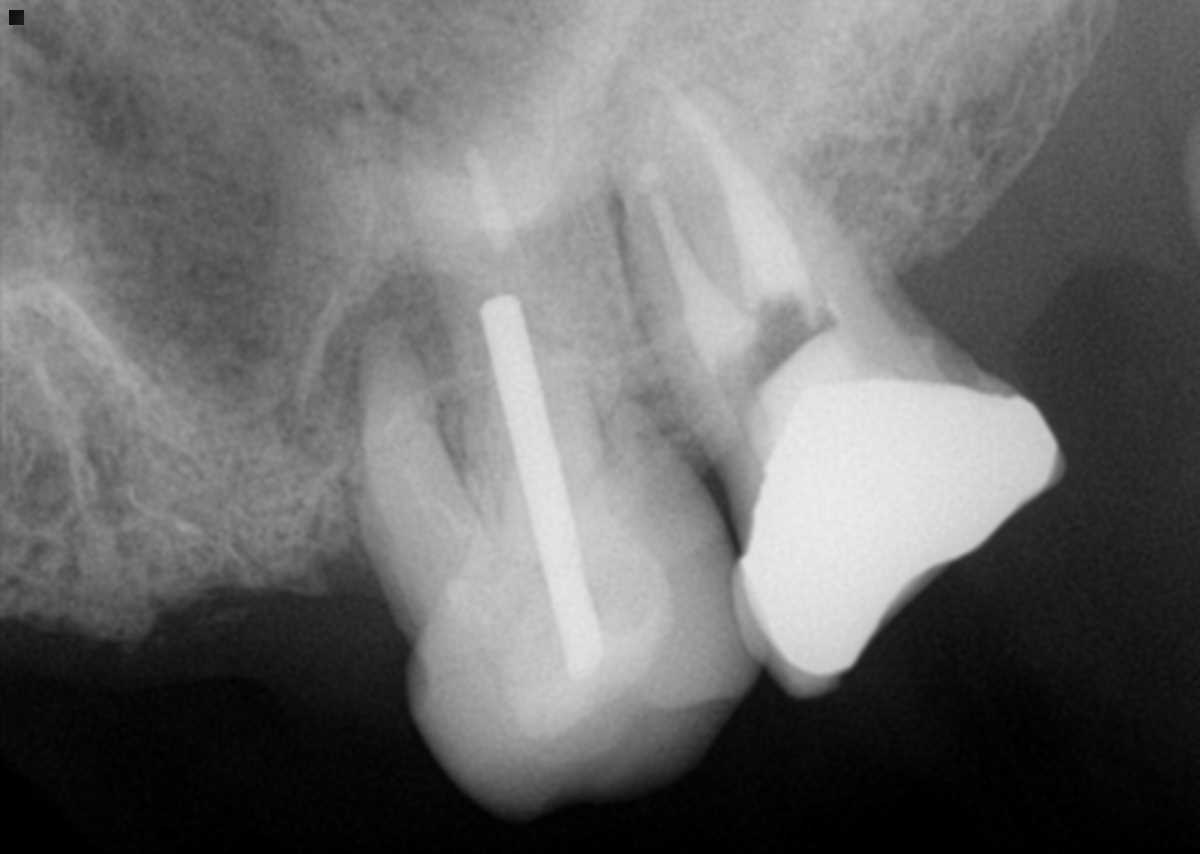Apical Lesion: (303, 266, 493, 470)
Mesial Root: (353, 318, 497, 623), (615, 148, 769, 411)
Palatal Root: (399, 57, 650, 477), (643, 57, 896, 379)
Root Canal Filling: (647, 68, 817, 323), (647, 186, 759, 366), (463, 144, 516, 254)
